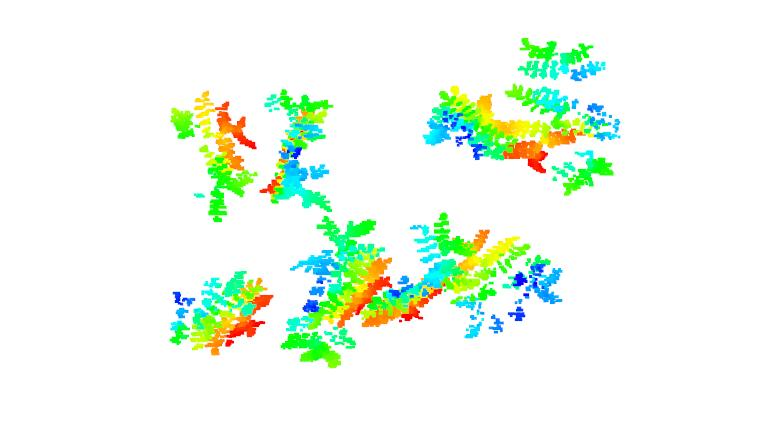chickpea: (518, 23, 626, 194), (284, 216, 390, 375), (382, 210, 492, 332), (164, 87, 257, 226), (457, 225, 566, 343), (166, 273, 278, 361), (262, 83, 337, 214), (429, 83, 517, 161)
